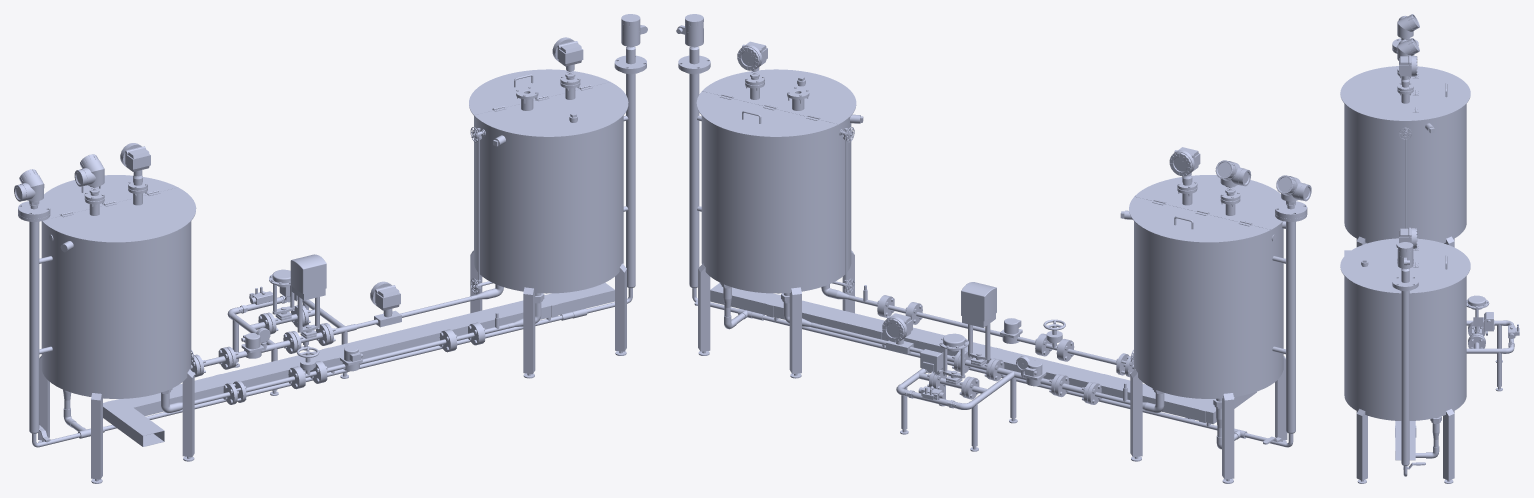
The model's file is Machine 2.fbx.
3 views of the same model, side by side, from view 1: azimuth 30°, elevation 25°; view 2: azimuth 150°, elevation 25°; view 3: azimuth 270°, elevation 25° (orthographic). The views are drawn at different scales.
Parts seen in each view (by area): view 1: KYANYAP1-001-AA, KYANYAP1-004-AA, KYANYAP1-004-AA.001, KYANYAP1-002-AA, KYANYAP1-002-AA.002, KYANYAP1-002-AA.001; view 2: KYANYAP1-001-AA, KYANYAP1-004-AA, KYANYAP1-004-AA.001, KYANYAP1-002-AA.001, KYANYAP1-002-AA.002, KYANYAP1-002-AA; view 3: KYANYAP1-001-AA, KYANYAP1-004-AA.001, KYANYAP1-002-AA.001, KYANYAP1-004-AA, KYANYAP1-002-AA.
Part boxes in pixels (<box>): KYANYAP1-001-AA: <box>18,14,647,483</box>; KYANYAP1-004-AA: <box>74,154,104,187</box>; KYANYAP1-004-AA.001: <box>14,169,44,202</box>; KYANYAP1-002-AA: <box>552,37,583,70</box>; KYANYAP1-002-AA.002: <box>370,281,400,315</box>; KYANYAP1-002-AA.001: <box>120,143,150,176</box>; KYANYAP1-001-AA: <box>676,14,1307,483</box>; KYANYAP1-004-AA: <box>1215,160,1251,187</box>; KYANYAP1-004-AA.001: <box>1276,175,1311,202</box>; KYANYAP1-002-AA.001: <box>1169,147,1200,176</box>; KYANYAP1-002-AA.002: <box>882,313,912,342</box>; KYANYAP1-002-AA: <box>737,41,767,70</box>; KYANYAP1-001-AA: <box>1340,38,1519,483</box>; KYANYAP1-004-AA.001: <box>1397,14,1419,39</box>; KYANYAP1-002-AA.001: <box>1399,55,1417,79</box>; KYANYAP1-004-AA: <box>1397,38,1419,60</box>; KYANYAP1-002-AA: <box>1399,227,1417,248</box>.
Bounding box in the file's own units: 291 × 136 × 87.96.
